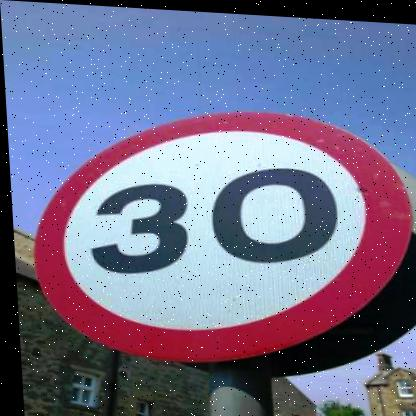Speed Limit -30-: (14, 77, 416, 377)
